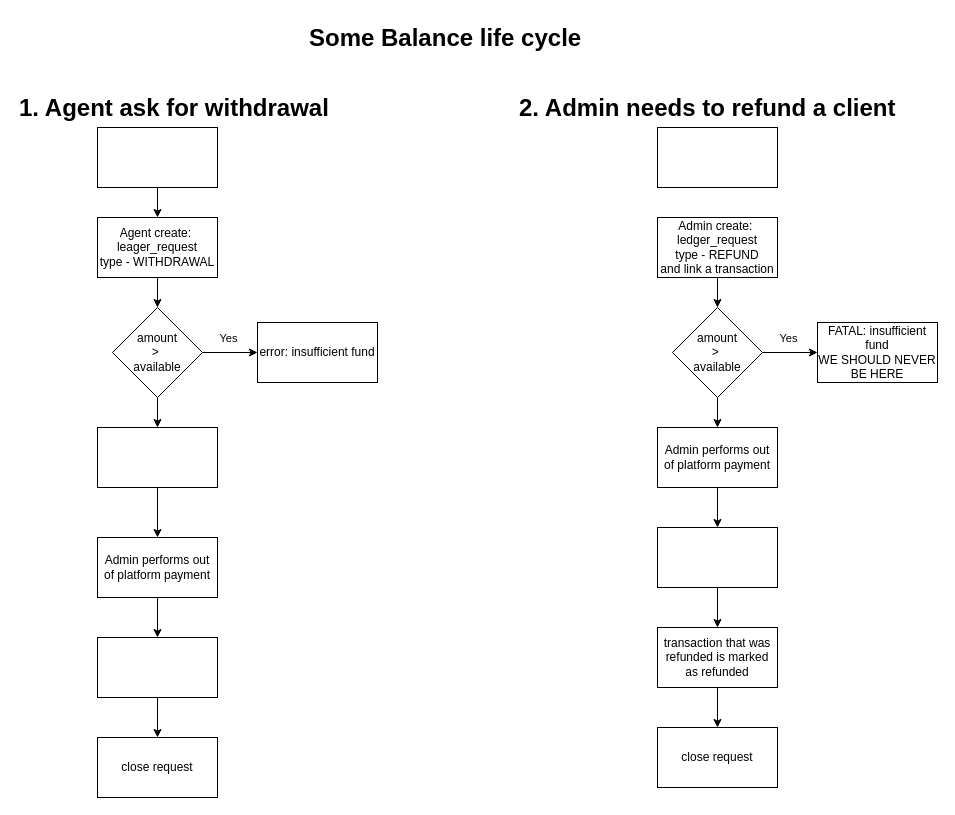
Some shapes in this 955 by 815 pixel diagram are drawn without their labels. The shapes that lost their labels are listed below. From the top down, each one's box as (x1, y1, x2, y2) in pixels, then its label:
(96, 126, 218, 188): Withdrawal request
(656, 126, 778, 188): refund request
(96, 426, 218, 488): increase agent hold balance
(656, 526, 778, 588): admin possibly sanction agent
(96, 636, 218, 698): Calculate new agent balance
